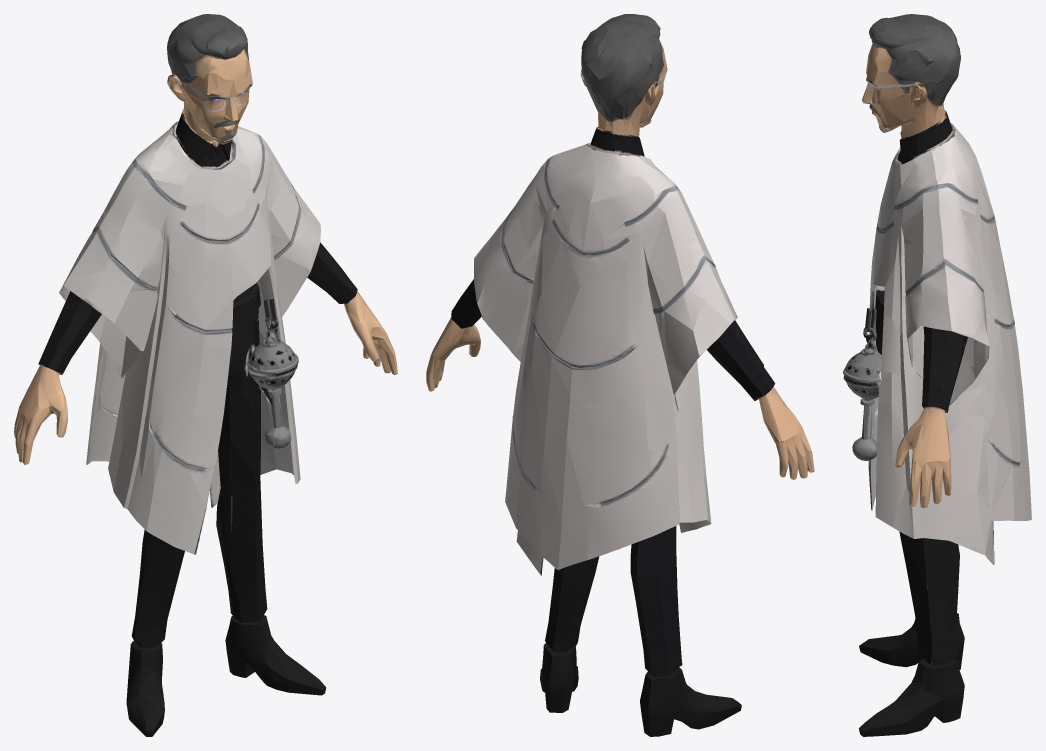
3 views of the same model, side by side, from view 1: azimuth 30°, elevation 25°; view 2: azimuth 150°, elevation 25°; view 3: azimuth 270°, elevation 25° (orthographic).
Size of the model in its own units: 1.1 by 1.9 by 0.4835.
Materials: 1 (1 with a texture image).
